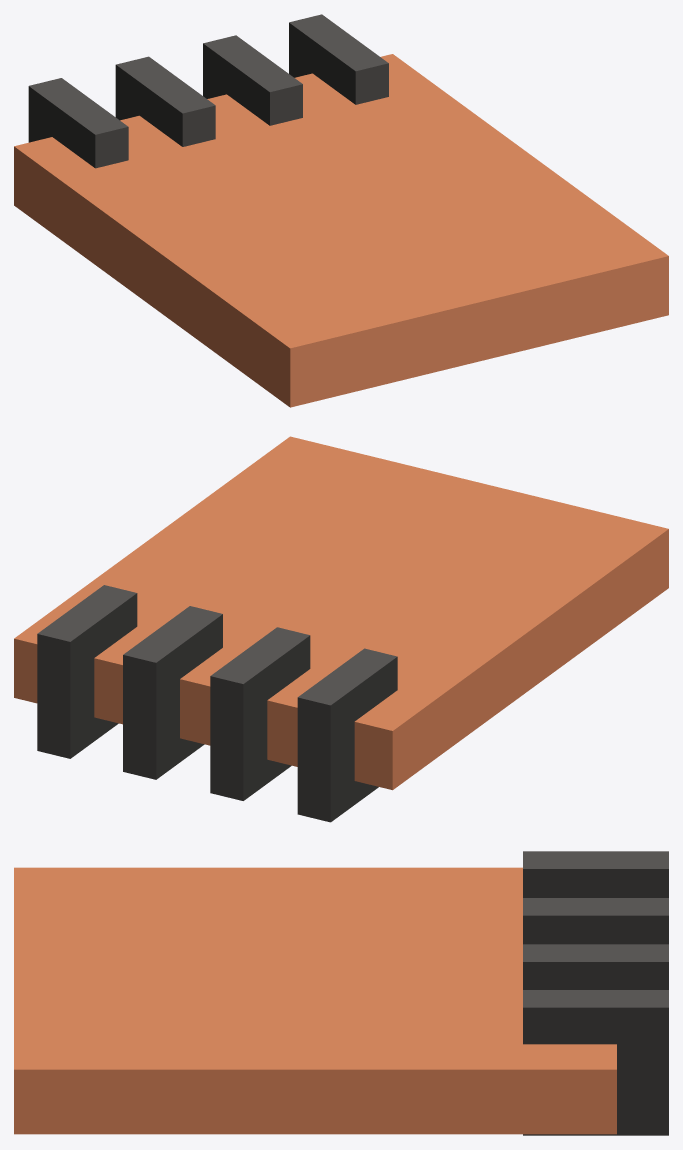
Rendered from SO_Notepad_01.fbx.
3 renders of one model, top to bottom at view 1: azimuth 30°, elevation 25°; view 2: azimuth 150°, elevation 25°; view 3: azimuth 270°, elevation 25°, orthographic. The views are drawn at different scales.
Visible parts, largest first — view 1: SO_Notepad_01; view 2: SO_Notepad_01; view 3: SO_Notepad_01.
Boxes of the visible parts, x1,y1,x2,y2 form: SO_Notepad_01: (14, 14, 668, 407); SO_Notepad_01: (14, 436, 668, 822); SO_Notepad_01: (14, 851, 668, 1135).
Bounding box in the file's own units: 0.3308 × 0.0977 × 0.4537.
